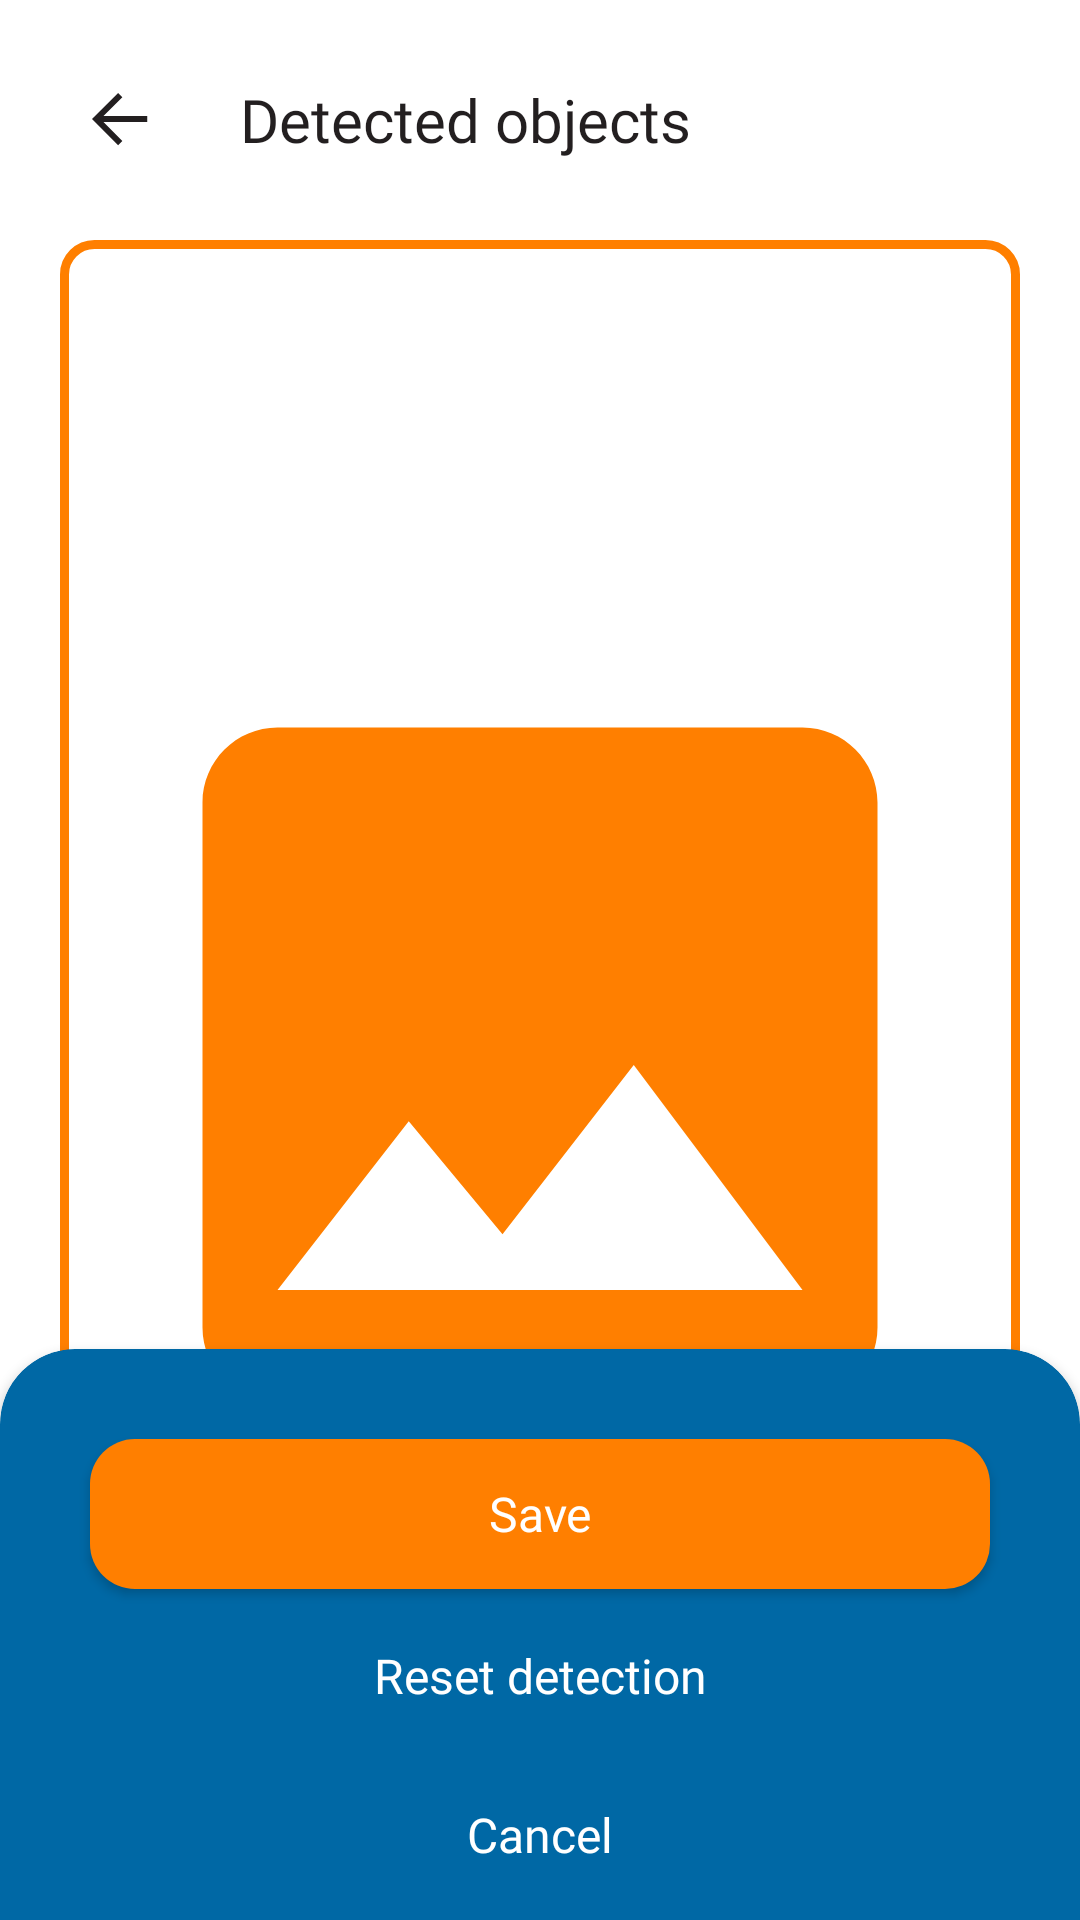

Icons on this 1080x1920 Android screen, each with the point to tap as (x,y):
arrow: (120,119)
